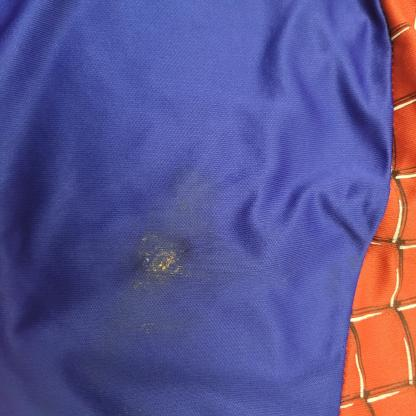spot: (124, 219, 208, 294), (135, 318, 192, 337)
